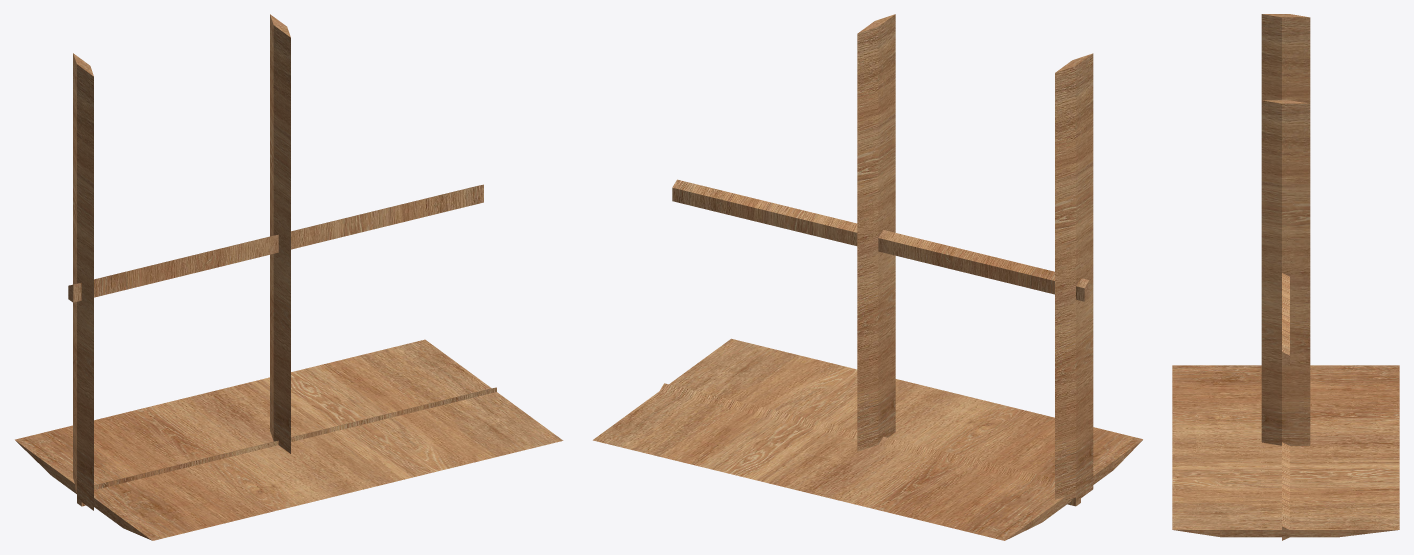
File: 46553_deepcad-end2end.glb
The picture shows the model from 3 angles, left to right: view 1: azimuth 30°, elevation 25°; view 2: azimuth 150°, elevation 25°; view 3: azimuth 270°, elevation 25°; orthographic projection. The views are drawn at different scales.
Parts seen in each view (by area): view 1: test_cmd_46553_pred; view 2: test_cmd_46553_pred; view 3: test_cmd_46553_pred.
Boxes of the visible parts, x1,y1,x2,y2 form: test_cmd_46553_pred: (15, 14, 563, 540); test_cmd_46553_pred: (593, 14, 1142, 540); test_cmd_46553_pred: (1172, 14, 1399, 540).
Bounding box in the file's own units: 1 × 0.9899 × 0.5657.
Materials: 1 (1 with a texture image).
